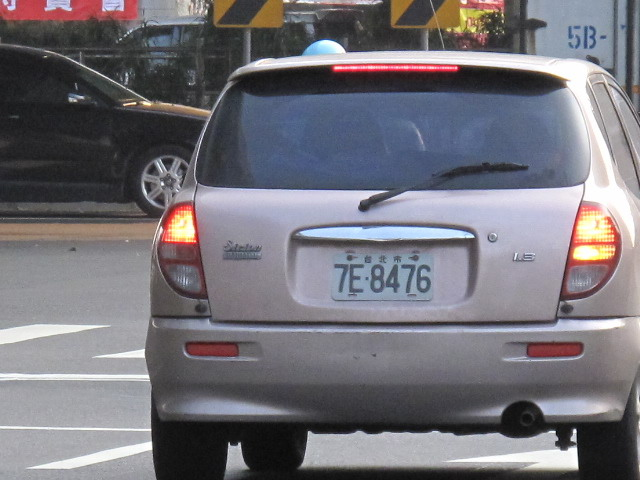plate: (328, 252, 437, 304)
